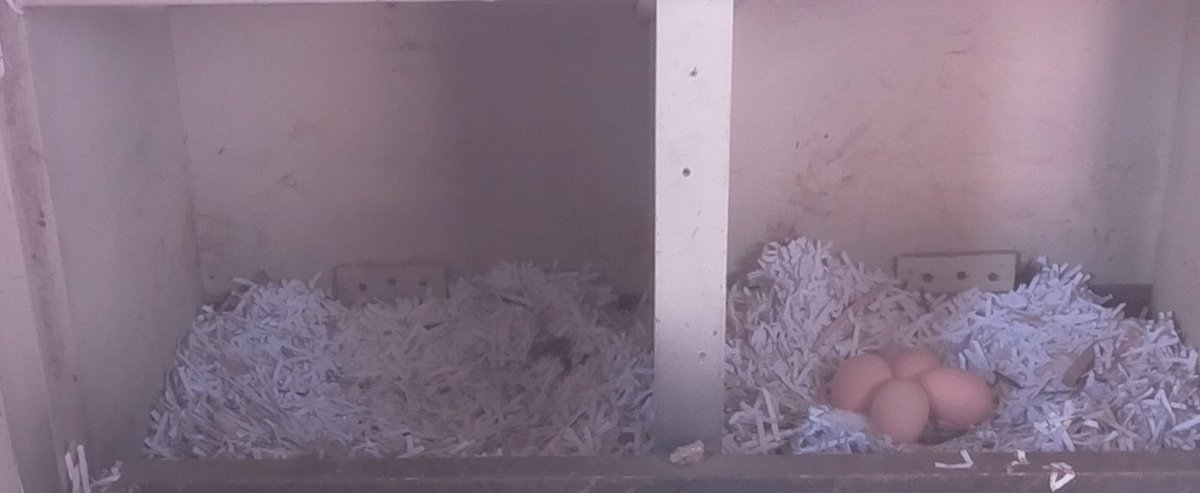egg: (908, 363, 1002, 433), (863, 369, 936, 449), (827, 347, 897, 420), (885, 341, 946, 384)
